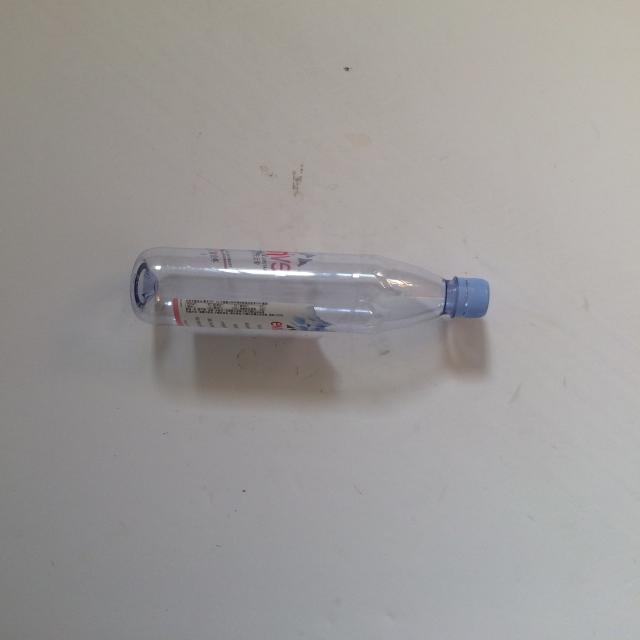plastic: (129, 245, 490, 334)
